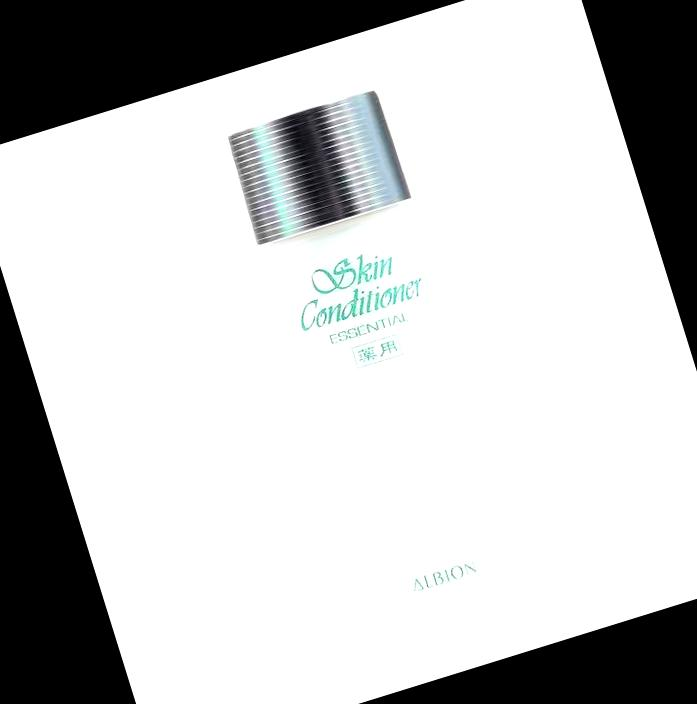cosmetic: (214, 84, 538, 650)
